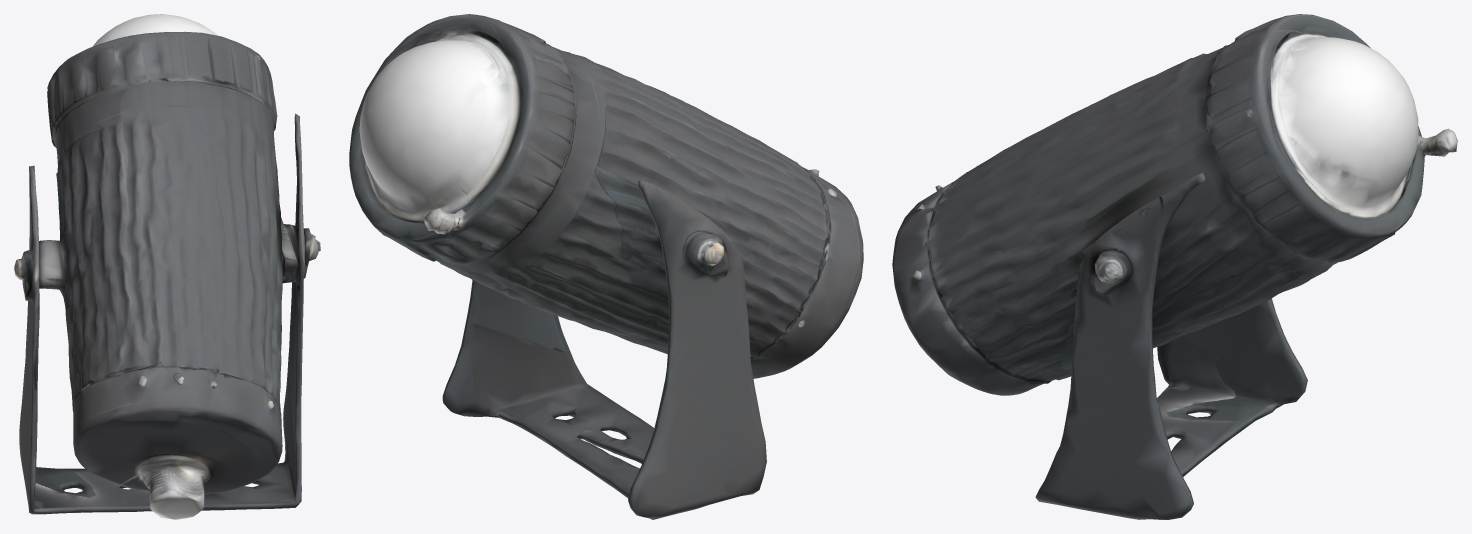
Rendered from Spotlight.glb.
The picture shows the model from 3 angles, left to right: view 1: azimuth 30°, elevation 25°; view 2: azimuth 150°, elevation 25°; view 3: azimuth 270°, elevation 25°; orthographic projection. The views are drawn at different scales.
Bounding box in the file's own units: 1.46 × 1.81 × 2.
Materials: 1 (1 with a texture image).
